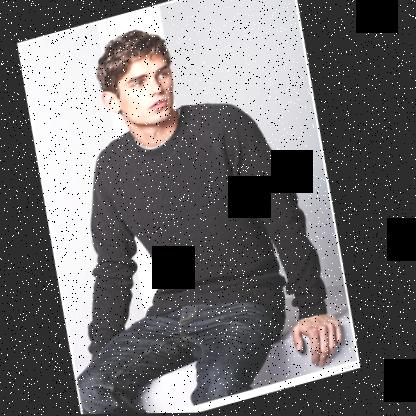Male: (91, 48, 189, 139)
